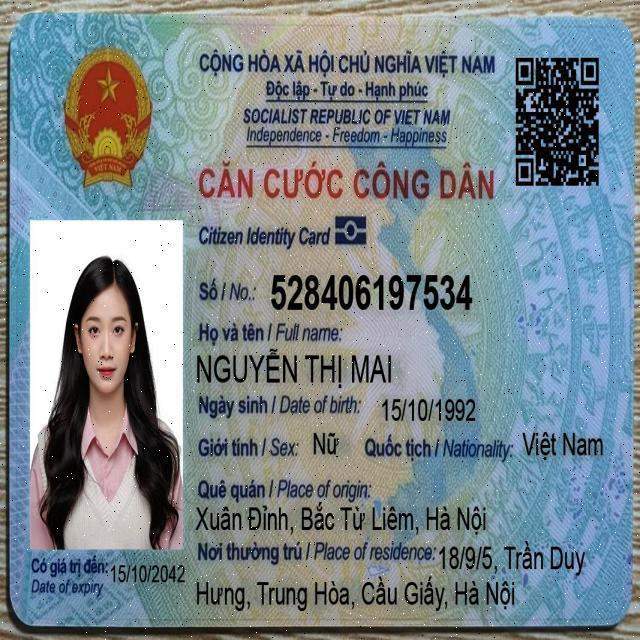current_place: (193, 575, 518, 615), (437, 537, 588, 581)
dob: (379, 391, 481, 429)
expire_date: (108, 556, 189, 590)
gender: (310, 424, 343, 463)
id: (266, 265, 477, 318)
name: (193, 345, 395, 392)
nationality: (519, 425, 607, 465)
origin_place: (192, 499, 491, 541)
